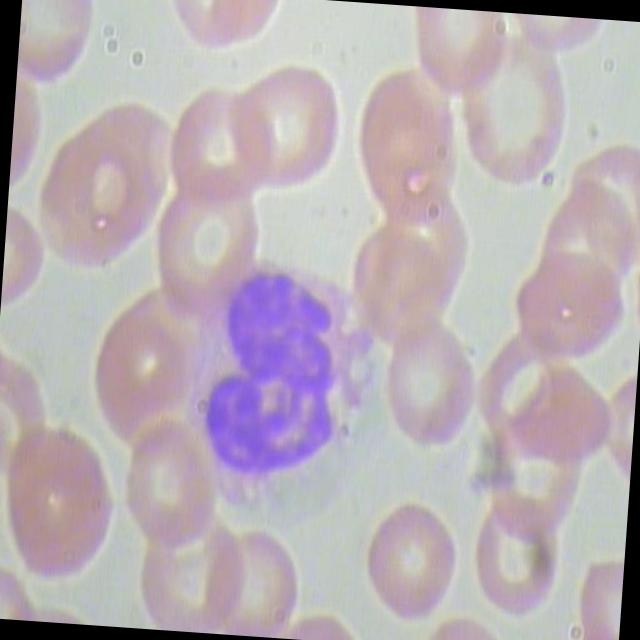RBC: (137, 164, 267, 334), (447, 34, 577, 204), (0, 414, 121, 591), (342, 64, 460, 222), (222, 50, 344, 198), (155, 80, 281, 208), (457, 494, 571, 630), (352, 496, 466, 630), (370, 326, 484, 460), (507, 254, 632, 370), (120, 418, 223, 558), (205, 525, 302, 639), (402, 8, 510, 103)
WBC: (169, 238, 392, 532)
